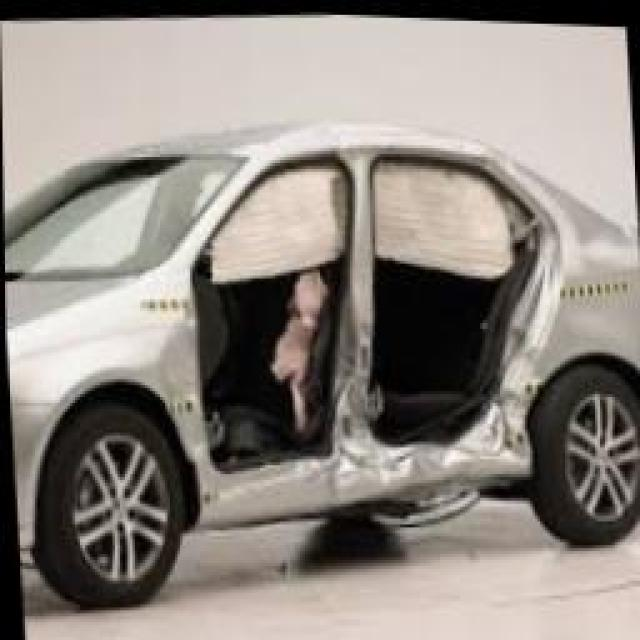Door: (359, 151, 539, 437), (194, 157, 354, 462)
